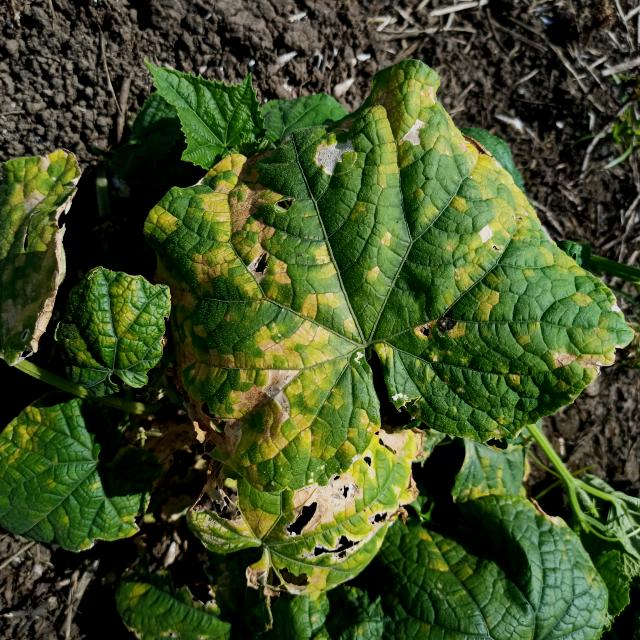disease_cucumber: (167, 59, 629, 590)
